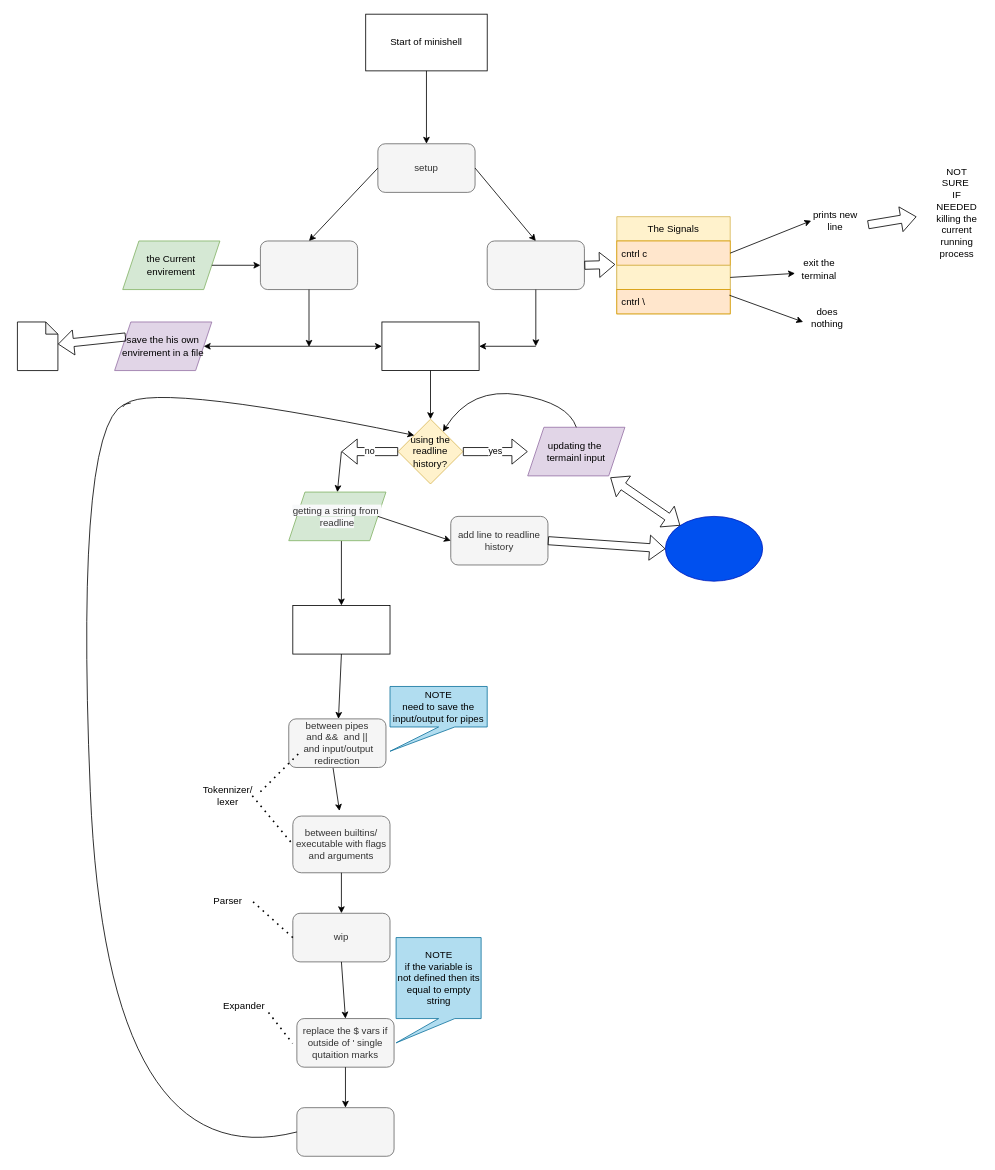
This 995x1170 diagram has some shape labels left out. The centre of each missing label's shape, as x and y in pixels:
"cntrl d" goes at point (673, 277).
"creating Envirement" goes at point (309, 265).
"creating signal Handler" goes at point (535, 265).
"deconstructing the input" goes at point (341, 629).
"envirement" goes at point (37, 346).
"execution" goes at point (345, 1131).
"readline historybuffer" goes at point (714, 548).
"starting readline loop" goes at point (430, 346).
